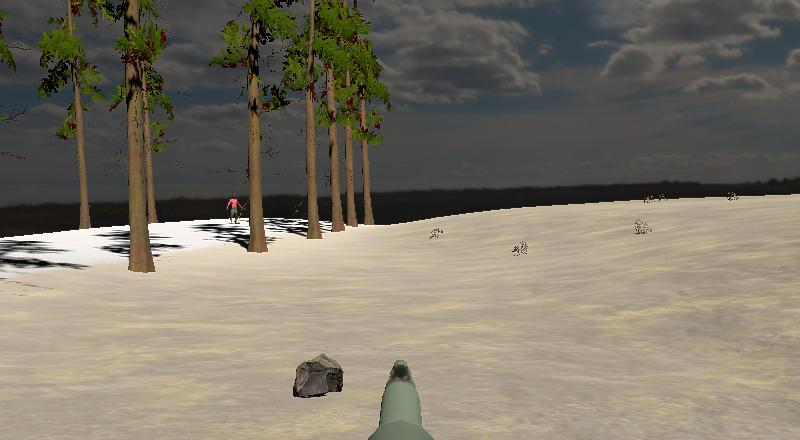Human: (225, 193, 244, 224)
